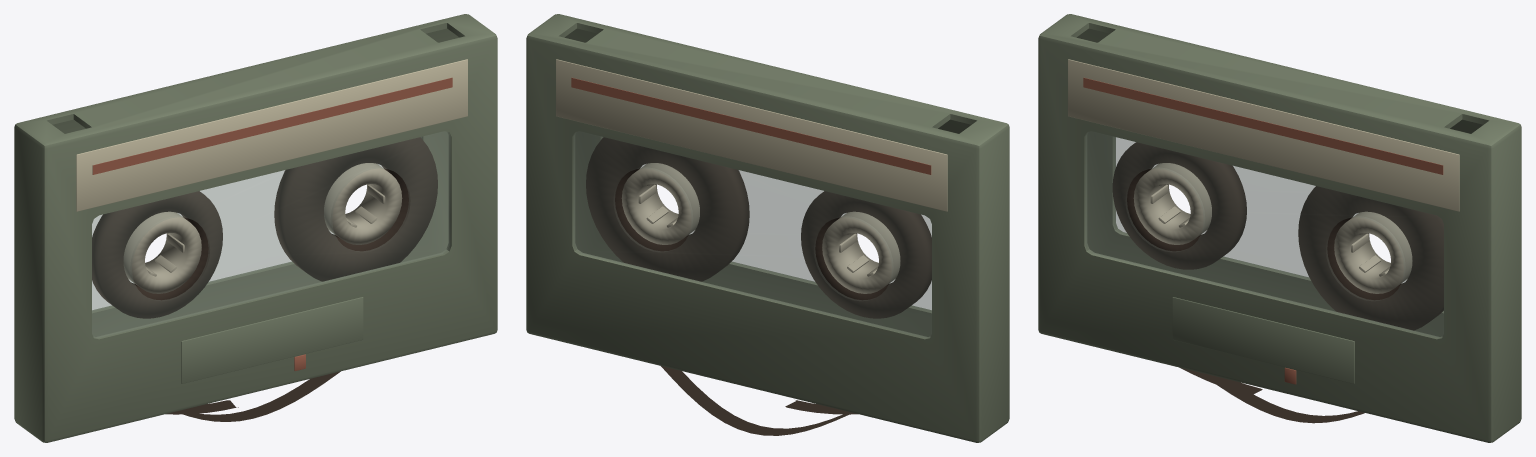
Rendered from A04_BrokenTape.fbx.
The picture shows the model from 3 angles, left to right: view 1: azimuth 30°, elevation 25°; view 2: azimuth 150°, elevation 25°; view 3: azimuth 330°, elevation 25°; orthographic projection.
Parts seen in each view (by area): view 1: A04_BrokenTape_Shell, A04_BrokenTape_Window_Front, A04_BrokenTape_Label.001, A04_BrokenTape_Winding_R, A04_BrokenTape_Winding_L, A04_BrokenTape_BlankGrip, A04_BrokenTape_Window_Back, A04_BrokenTape_Hub_L, A04_BrokenTape_Hub_R, A04_BrokenTape_Accent.001, A04_SlackRibbon, A04_BrokenEnd_L; view 2: A04_BrokenTape_Shell, A04_BrokenTape_Window_Back, A04_BrokenTape_Label, A04_BrokenTape_Winding_R, A04_BrokenTape_Winding_L, A04_BrokenTape_Window_Front, A04_BrokenTape_Hub_L, A04_BrokenTape_Hub_R, A04_BrokenTape_Accent, A04_SlackRibbon, A04_BrokenEnd_L; view 3: A04_BrokenTape_Shell, A04_BrokenTape_Window_Front, A04_BrokenTape_Label.001, A04_BrokenTape_Winding_R, A04_BrokenTape_Winding_L, A04_BrokenTape_BlankGrip, A04_BrokenTape_Window_Back, A04_BrokenTape_Hub_R, A04_BrokenTape_Hub_L, A04_BrokenTape_Accent.001, A04_SlackRibbon, A04_BrokenEnd_L.
Part boxes in pixels (box(x1,y1,x2,y2)): A04_BrokenTape_Shell: box(14, 14, 497, 442); A04_BrokenTape_Window_Front: box(92, 131, 450, 338); A04_BrokenTape_Label.001: box(76, 59, 467, 211); A04_BrokenTape_Winding_R: box(274, 137, 437, 281); A04_BrokenTape_Winding_L: box(92, 191, 222, 318); A04_BrokenTape_BlankGrip: box(181, 297, 363, 383); A04_BrokenTape_Window_Back: box(92, 165, 381, 310); A04_BrokenTape_Hub_L: box(123, 211, 201, 293); A04_BrokenTape_Hub_R: box(324, 163, 402, 244); A04_BrokenTape_Accent.001: box(92, 77, 452, 174); A04_SlackRibbon: box(183, 371, 340, 421); A04_BrokenEnd_L: box(166, 400, 238, 414); A04_BrokenTape_Shell: box(526, 14, 1009, 442); A04_BrokenTape_Window_Back: box(573, 131, 931, 338); A04_BrokenTape_Label: box(556, 59, 947, 211); A04_BrokenTape_Winding_R: box(586, 137, 749, 281); A04_BrokenTape_Winding_L: box(801, 191, 931, 318); A04_BrokenTape_Window_Front: box(642, 165, 931, 310); A04_BrokenTape_Hub_L: box(822, 211, 900, 293); A04_BrokenTape_Hub_R: box(621, 163, 699, 244); A04_BrokenTape_Accent: box(571, 77, 931, 174); A04_SlackRibbon: box(661, 366, 852, 435); A04_BrokenEnd_L: box(785, 400, 857, 414); A04_BrokenTape_Shell: box(1038, 14, 1521, 442); A04_BrokenTape_Window_Front: box(1085, 131, 1443, 338); A04_BrokenTape_Label.001: box(1068, 59, 1459, 211); A04_BrokenTape_Winding_R: box(1298, 186, 1443, 330); A04_BrokenTape_Winding_L: box(1112, 142, 1246, 269); A04_BrokenTape_BlankGrip: box(1172, 297, 1354, 383); A04_BrokenTape_Window_Back: box(1115, 137, 1405, 282); A04_BrokenTape_Hub_R: box(1334, 211, 1412, 293); A04_BrokenTape_Hub_L: box(1133, 163, 1211, 244); A04_BrokenTape_Accent.001: box(1083, 77, 1443, 174); A04_SlackRibbon: box(1217, 385, 1364, 423); A04_BrokenEnd_L: box(1179, 367, 1262, 396).
Size of the model in its own units: 10 by 7.23 by 1.29.
